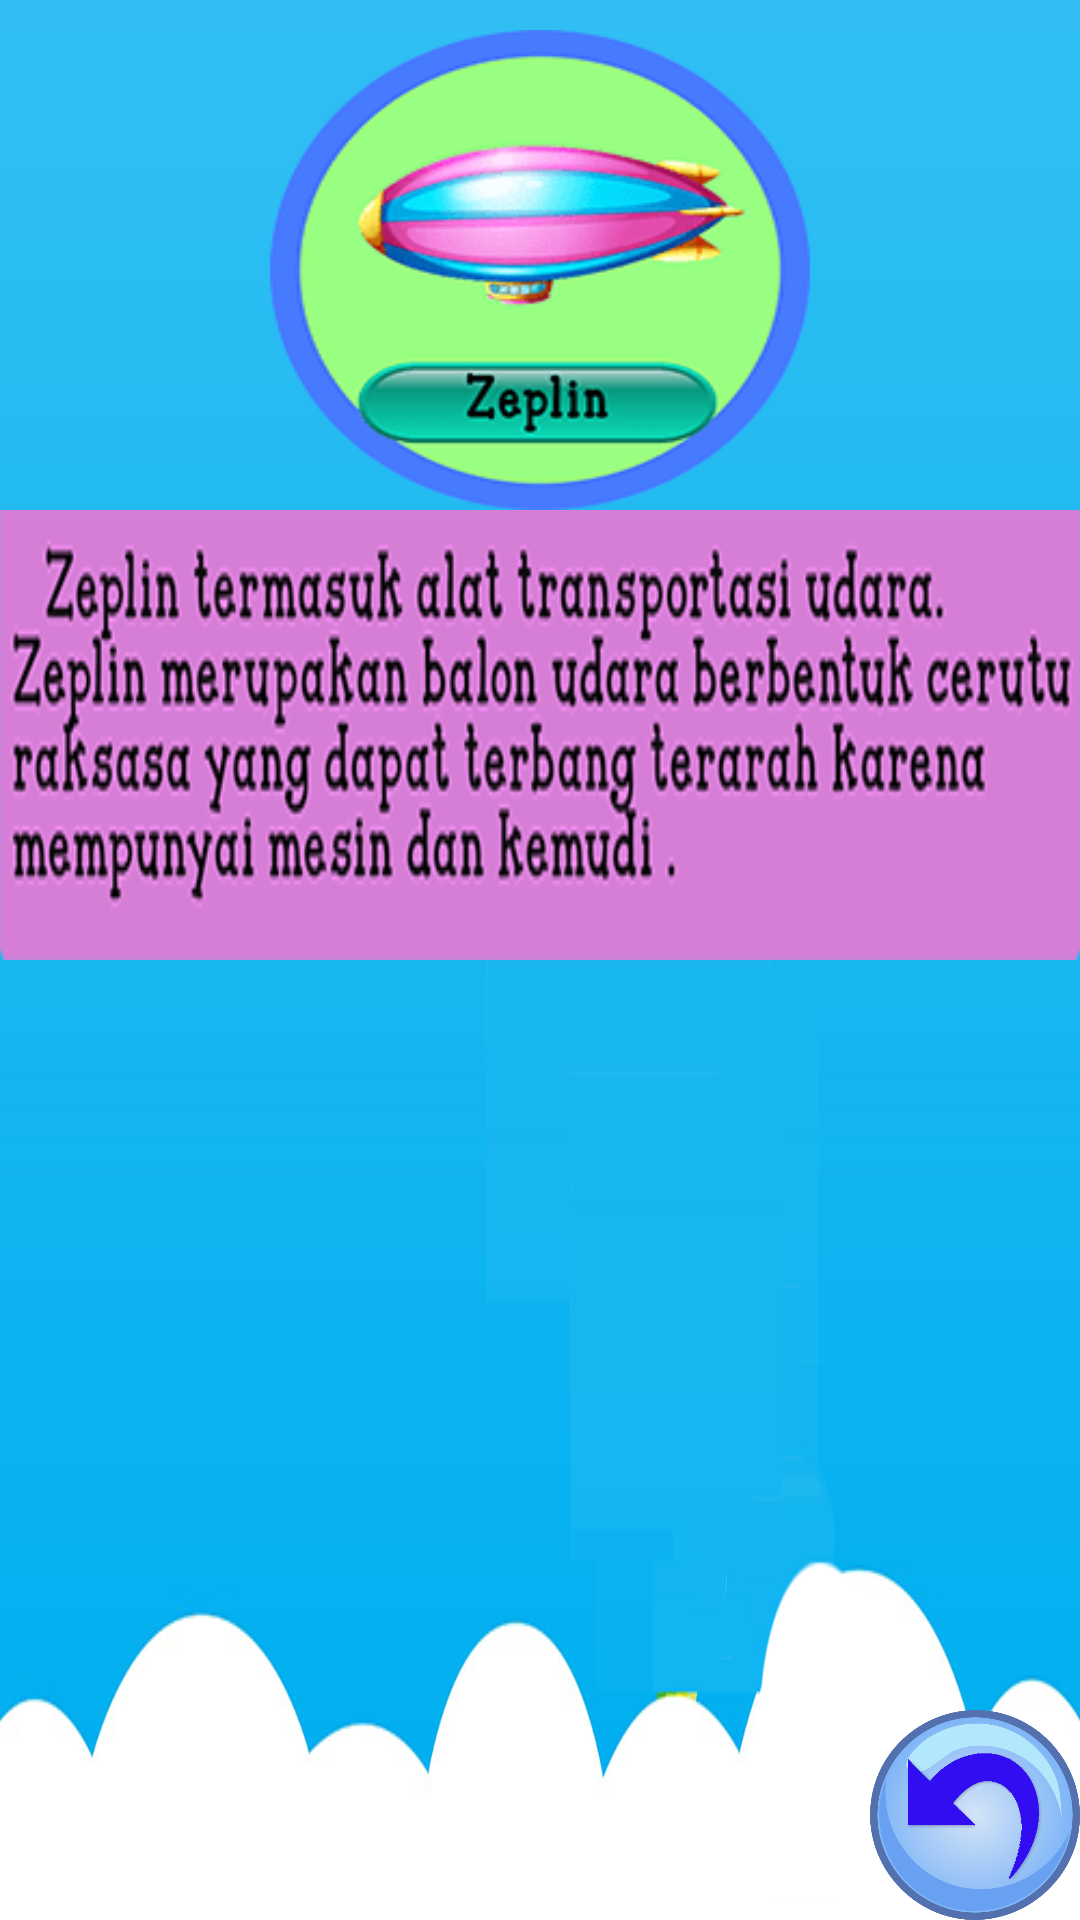

Where icons sit on this 1080×1920 app screen, as detection(x1, y1, x2, y2):
back: detection(870, 1710, 1080, 1920)
